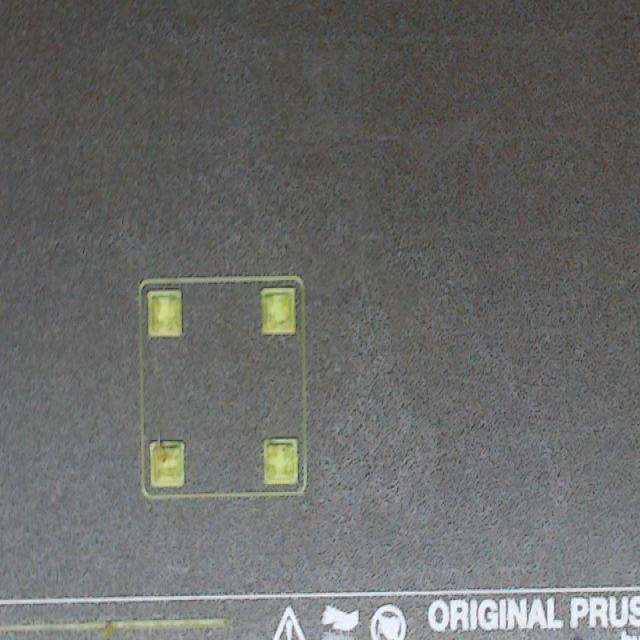mistake: (157, 445, 170, 461)
